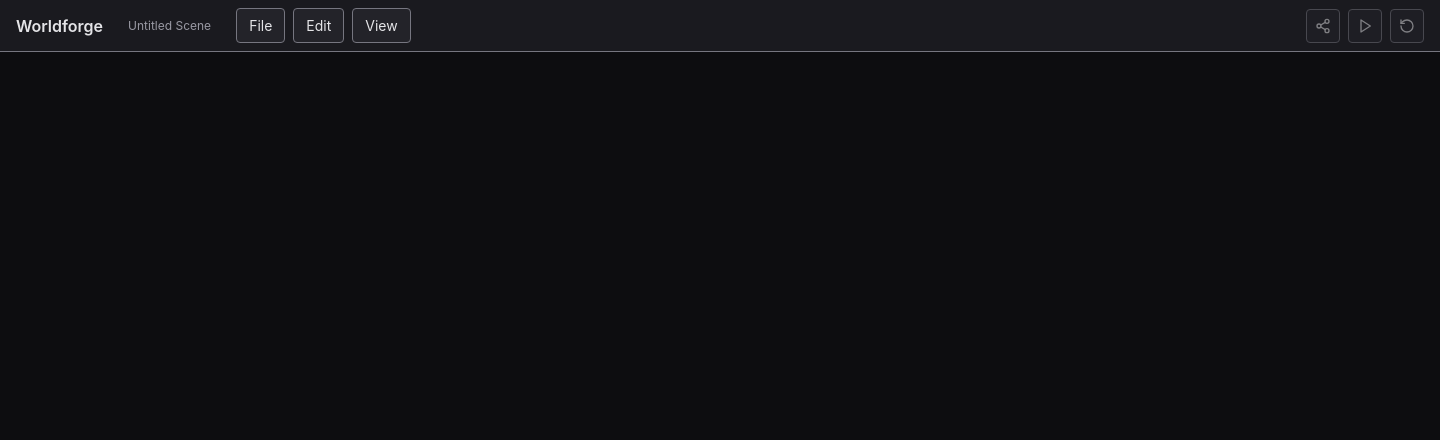
Toolbar — File menu / demo loading (D26, M3.6) › lists Falling Box in the File menu
Click the button "File".
click(261, 26)  # box [236,8,285,43]
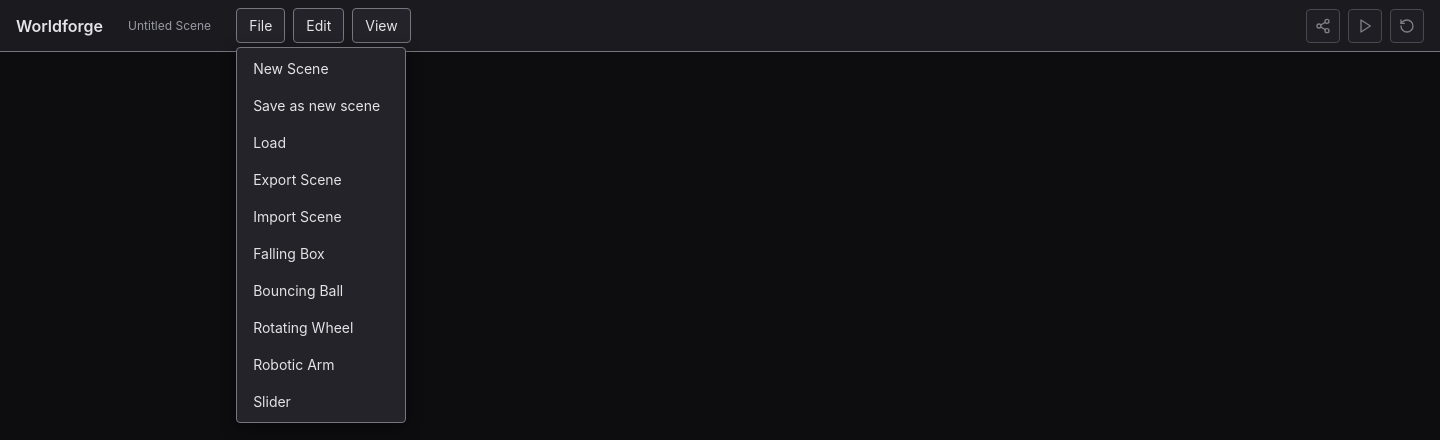
Now the button "Falling Box" is shown, box [241,237,401,270]
